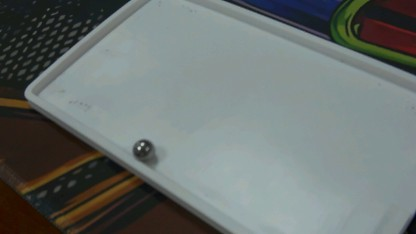ironball: (124, 131, 164, 166)
